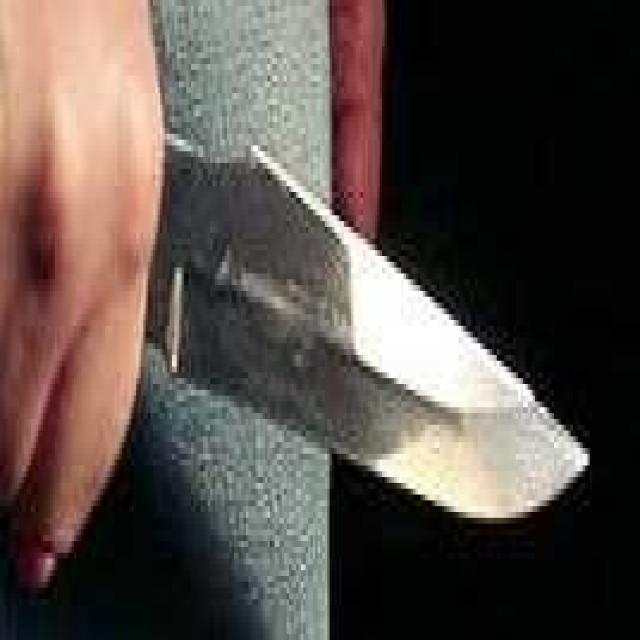knife: (29, 98, 589, 518)
